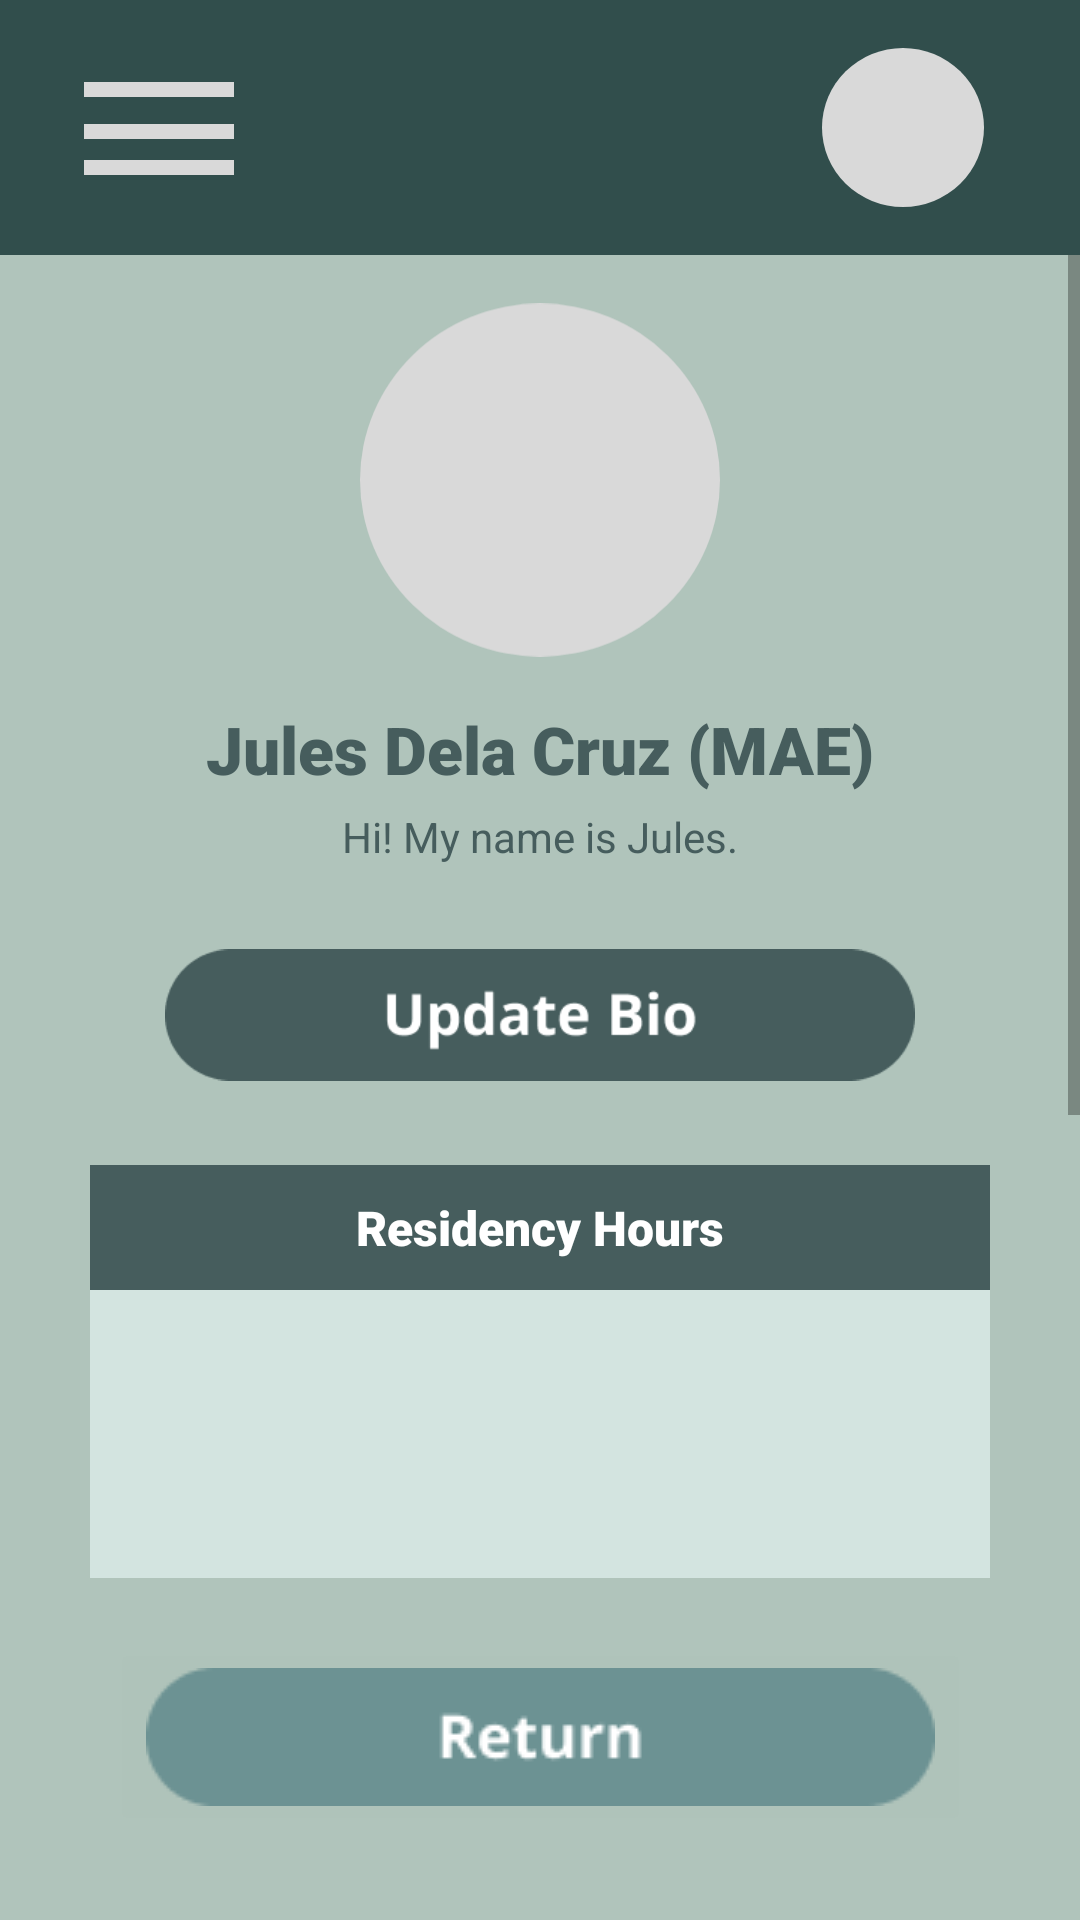

Point at icon controls on the screen. Image size 1080 × 1920, points as point (x, y).
menubtn: point (159, 128)
